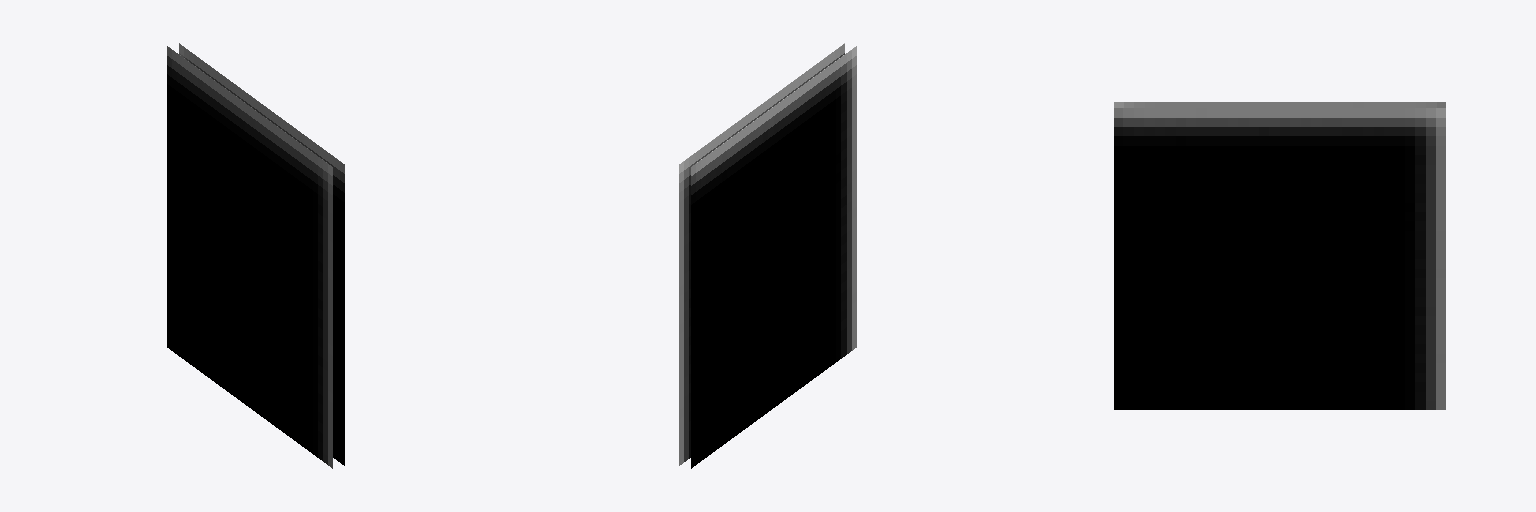
The picture shows the model from 3 angles: view 1: azimuth 30°, elevation 25°; view 2: azimuth 150°, elevation 25°; view 3: azimuth 270°, elevation 25°; orthographic projection.
Visible parts, largest first — view 1: translate_poly_yz; view 2: translate_poly_yz; view 3: translate_poly_yz.
Boxes of the visible parts, box(x1,y1,x2,y2) form: translate_poly_yz: box(167, 43, 344, 468); translate_poly_yz: box(679, 43, 856, 468); translate_poly_yz: box(1114, 102, 1445, 409).
Size of the model in its own units: 1 by 25 by 25.
Materials: 1 (1 with a texture image).